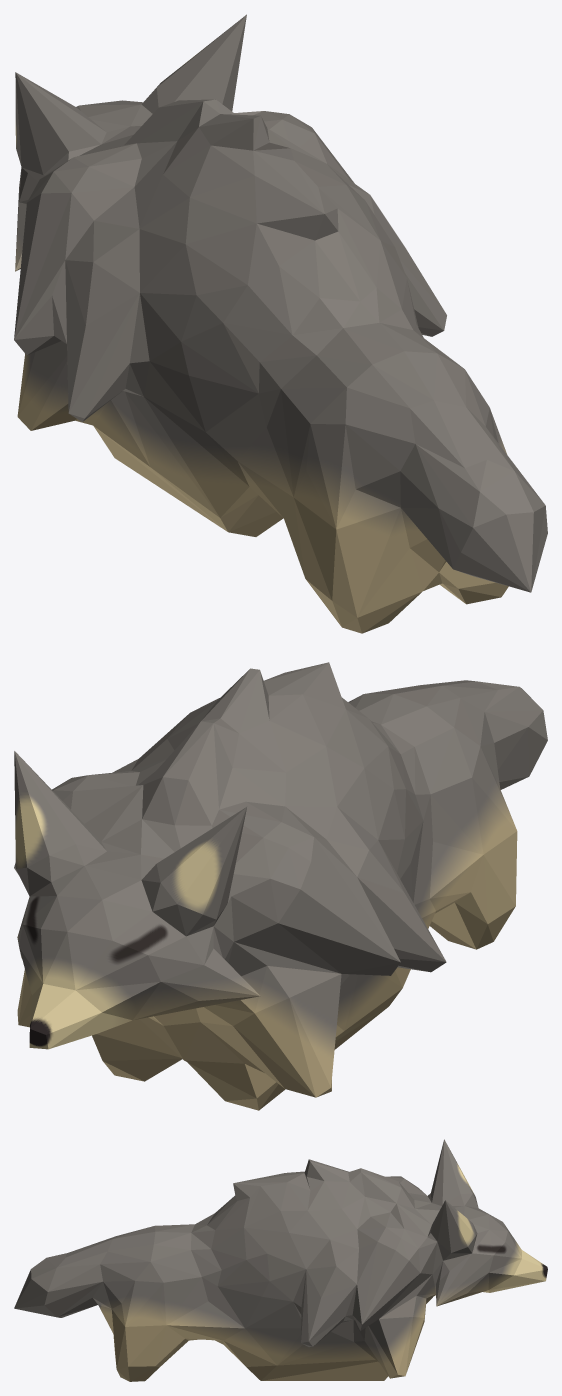
Rendered from animal_greatwolf_blob.obj.
3 renders of one model, top to bottom at view 1: azimuth 30°, elevation 25°; view 2: azimuth 150°, elevation 25°; view 3: azimuth 270°, elevation 25°, orthographic. The views are drawn at different scales.
Visible parts, largest first — view 1: animal_greatwolf_blob; view 2: animal_greatwolf_blob; view 3: animal_greatwolf_blob.
Boxes of the visible parts, <box> form: animal_greatwolf_blob: <box>14,14,547,633</box>; animal_greatwolf_blob: <box>14,662,547,1110</box>; animal_greatwolf_blob: <box>14,1139,547,1381</box>.
Bounding box in the file's own units: 0.8878 × 0.8213 × 1.96.
